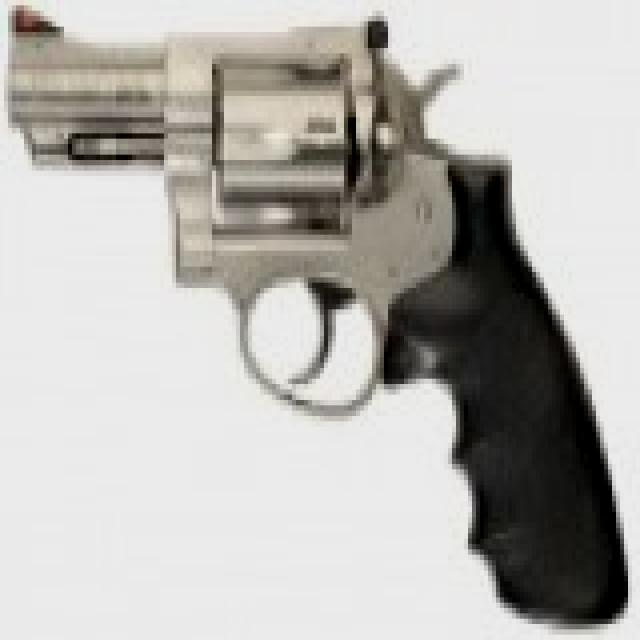pistol: (4, 0, 616, 619)
